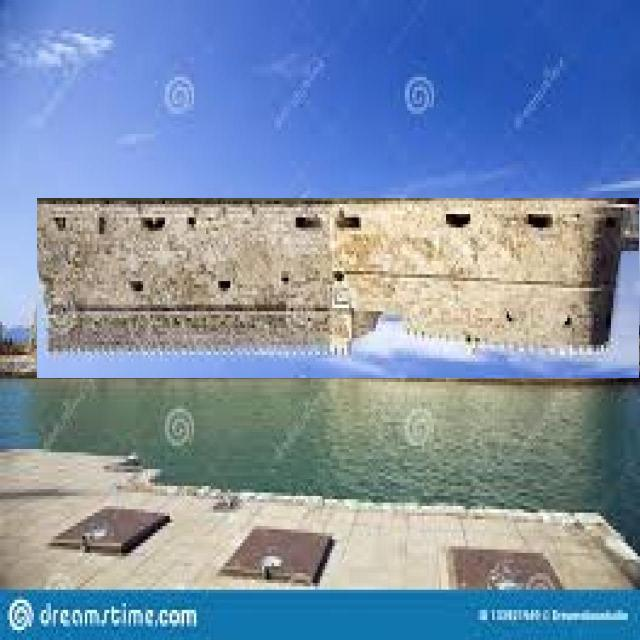Kules: (38, 199, 640, 379)
